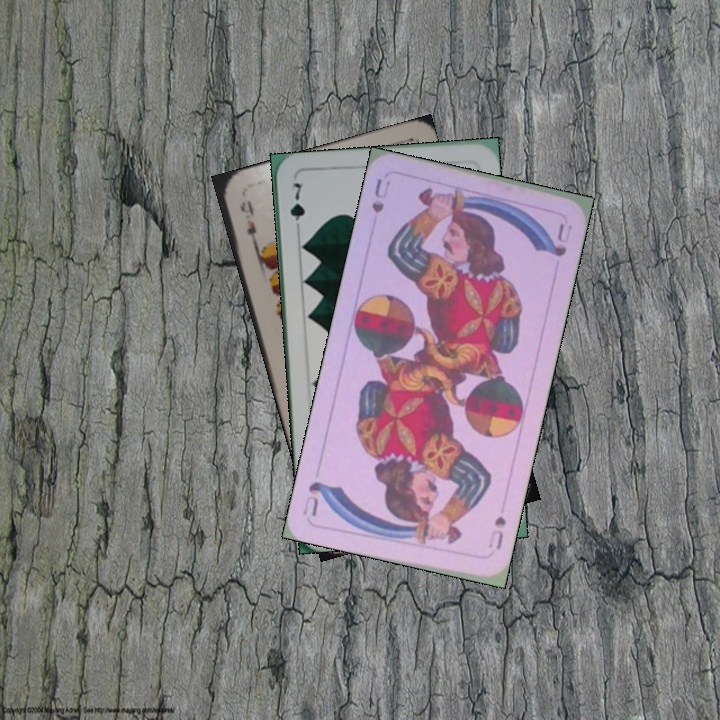E9: (236, 196, 261, 251)
G7: (285, 178, 308, 237)
SU: (368, 174, 393, 216), (484, 512, 509, 552)
